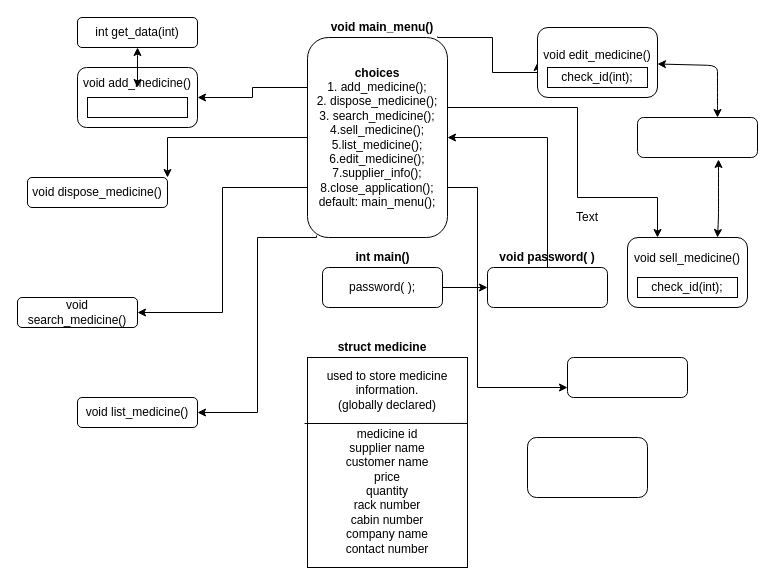
Some shapes in this 775 by 585 pixel diagram are drawn without their labels. The shapes that lost their labels are listed below. From the top down, each one's centre as x and y in pixels, then its label:
At point 137,107: "get_data();".
At point 697,137: "int check_id(int)".
At point 547,287: "if password matches main_menu( );".
At point 627,377: "void supplier_info()".
At point 587,467: "void goto_xy(int , int) global function".
